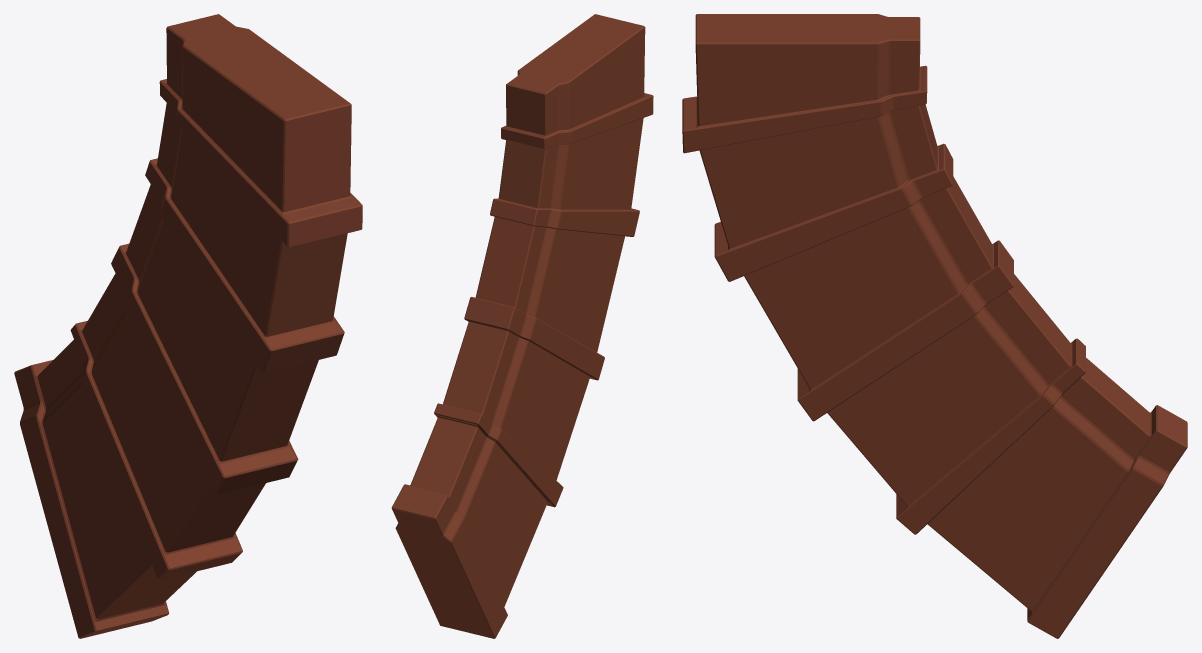
The model's file is carbine_magazine.glb.
3 renders of one model, left to right at view 1: azimuth 30°, elevation 25°; view 2: azimuth 150°, elevation 25°; view 3: azimuth 270°, elevation 25°, orthographic. The views are drawn at different scales.
Parts seen in each view (by area): view 1: AssaultRifle_3_part.002; view 2: AssaultRifle_3_part.002; view 3: AssaultRifle_3_part.002.
Part boxes in pixels (x1=…): AssaultRifle_3_part.002: x1=14, y1=14, x2=362, y2=638; AssaultRifle_3_part.002: x1=391, y1=14, x2=653, y2=638; AssaultRifle_3_part.002: x1=682, y1=14, x2=1187, y2=638.
Bounding box in the file's own units: 0.0174 × 0.1477 × 0.1137.
